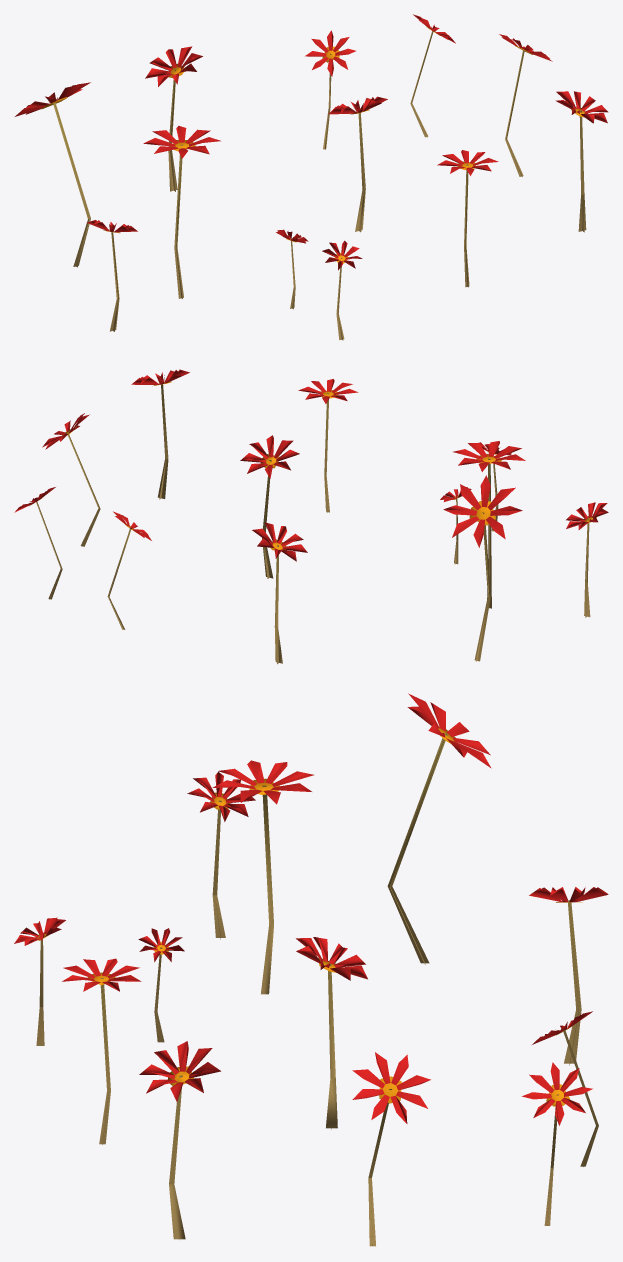
File: flower_red_low.glb
3 renders of one model, top to bottom at view 1: azimuth 30°, elevation 25°; view 2: azimuth 150°, elevation 25°; view 3: azimuth 270°, elevation 25°, orthographic. The views are drawn at different scales.
Parts seen in each view (by area): view 1: Flower 4_4_C; view 2: Flower 4_4_C; view 3: Flower 4_4_C.
Boxes of the visible parts, box(x1,y1,x2,y2) form: Flower 4_4_C: box(15, 14, 608, 340); Flower 4_4_C: box(14, 369, 608, 664); Flower 4_4_C: box(14, 693, 608, 1246).
Size of the model in its own units: 0.6073 by 0.2104 by 0.4454.
Materials: 1 (1 with a texture image).
